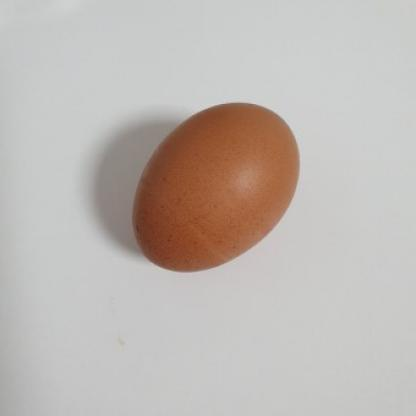egg: (131, 98, 306, 276)
